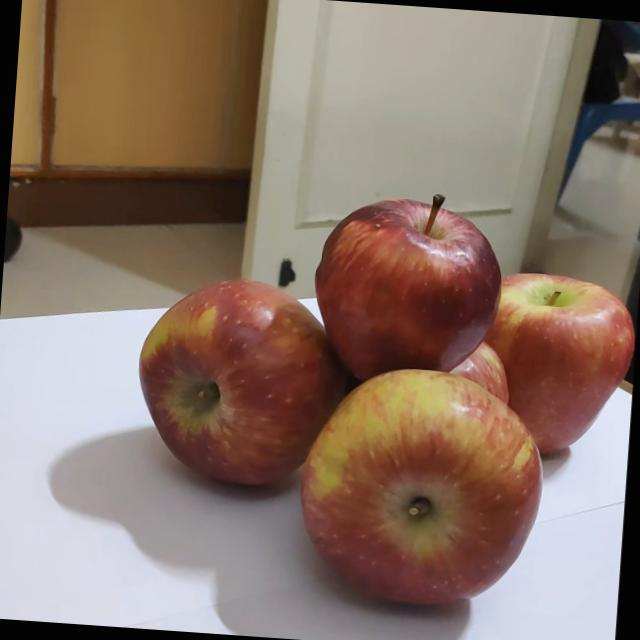apple: (303, 341, 565, 601), (122, 256, 358, 493), (303, 170, 519, 374), (468, 247, 622, 433)
